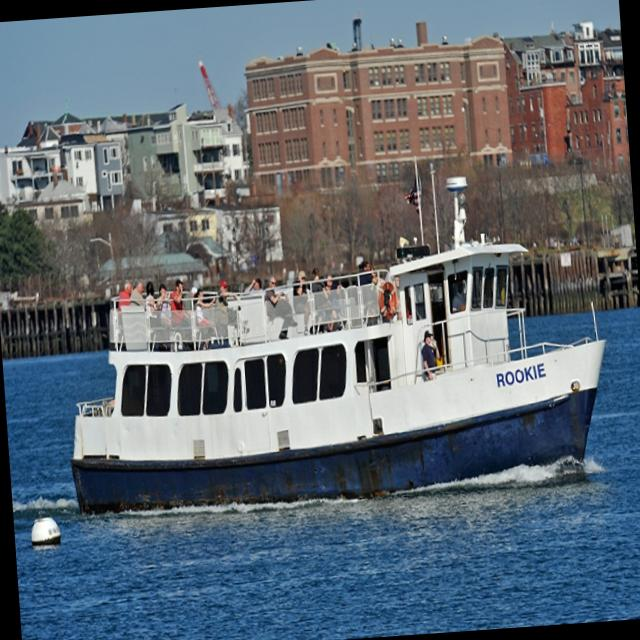boat: (46, 183, 622, 533)
